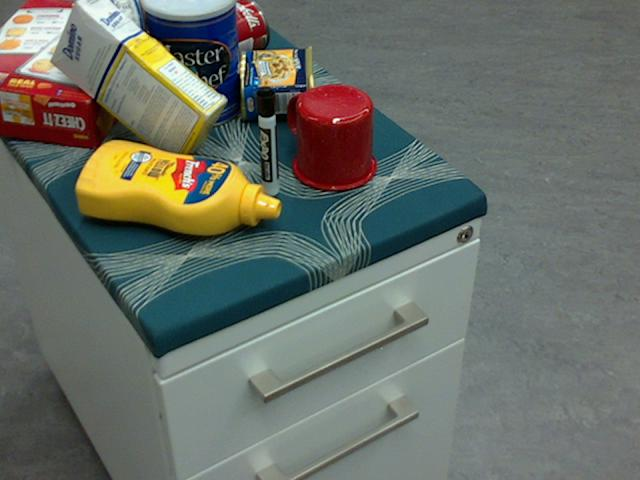cracker_box: (0, 0, 159, 149)
gelatin_box: (160, 0, 239, 42)
large_marker: (256, 86, 277, 194)
master_chef_can: (141, 0, 240, 128)
mug: (289, 83, 375, 190)
mustard_bottle: (75, 141, 281, 234)
potted_meat_can: (240, 44, 315, 120)
sugar_box: (51, 0, 229, 167)
tomato_soup_can: (172, 0, 269, 74)
tuna_fish_can: (91, 0, 145, 67)
